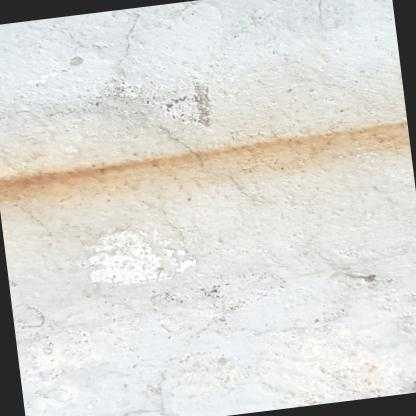crack: (161, 128, 206, 163), (313, 0, 324, 20)
